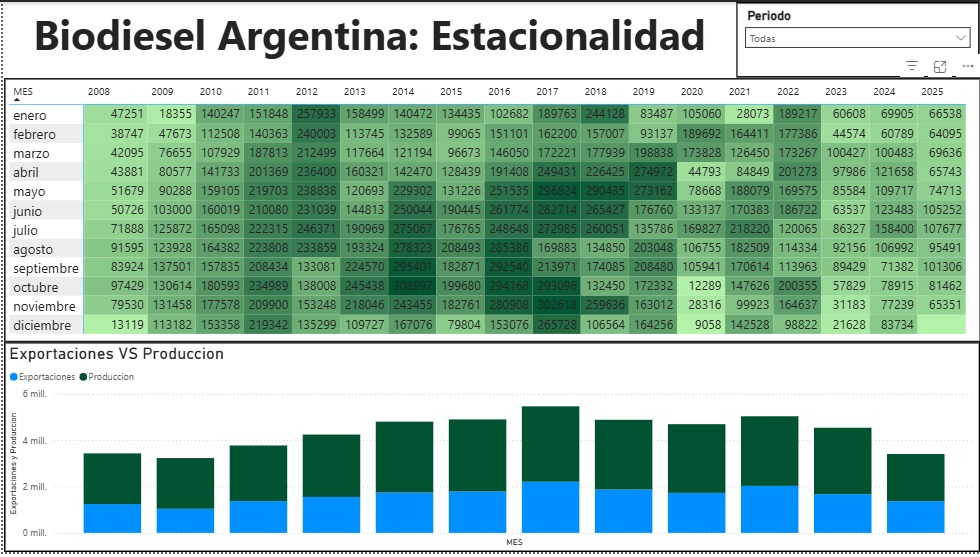

This screenshot's page, from the dashboard's own definition file:
{"tool":"powerbi","page":{"name":"Biodiesel Mensual","canvas":[1280,720],"ordinal":1},"visuals":[{"type":"slicer","fields":{"Values":["RESUMEN BIODIESEL MENSUAL.AÑO","RESUMEN BIODIESEL MENSUAL.MES"]},"box":[959.6,7.9,319.4,91.6],"z":0},{"type":"columnChart","title":"Exportaciones VS Produccion","fields":{"Y":["Sum(RESUMEN BIODIESEL MENSUAL.EXPORTACIONES)","Sum(RESUMEN BIODIESEL MENSUAL.PRODUCCIÓN)"],"Category":["RESUMEN BIODIESEL MENSUAL.MES"]},"box":[1.3,445.1,1277.7,274.9],"z":1000},{"type":"pivotTable","fields":{"Rows":["RESUMEN BIODIESEL MENSUAL.MES"],"Columns":["RESUMEN BIODIESEL MENSUAL.AÑO"],"Values":["Sum(RESUMEN BIODIESEL MENSUAL.PRODUCCIÓN)"]},"box":[1.3,99.5,1279,345.6],"z":2000},{"type":"textbox","box":[0,0,959.6,99.5],"z":2001}]}

Visuals, with their boxes in screenshot pixels (x1, y1, x2, y2), scaled from the page's 1280x720 canvas onto the 980x557 screenshot:
slicer - RESUMEN BIODIESEL MENSUAL.AÑO x RESUMEN BIODIESEL MENSUAL.MES: {"left": 735, "top": 6, "right": 979, "bottom": 77}
"Exportaciones VS Produccion" columnChart: {"left": 1, "top": 344, "right": 979, "bottom": 556}
pivotTable - RESUMEN BIODIESEL MENSUAL.MES x RESUMEN BIODIESEL MENSUAL.AÑO: {"left": 1, "top": 77, "right": 979, "bottom": 344}
textbox: {"left": 0, "top": 0, "right": 735, "bottom": 77}
